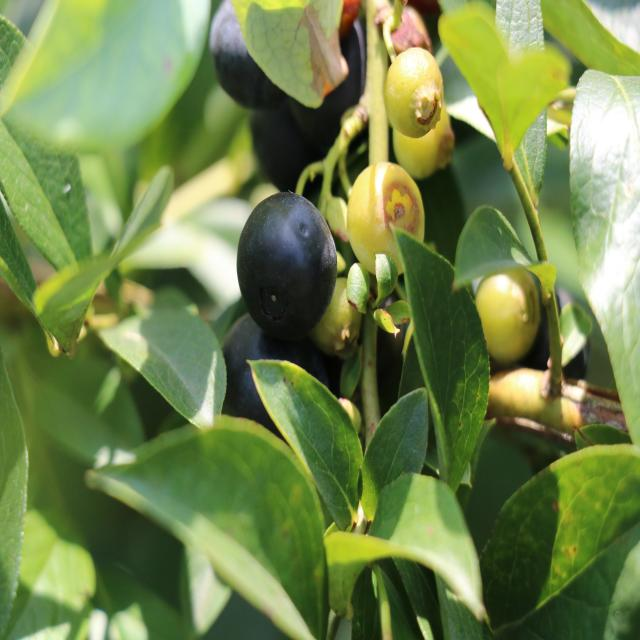blueberry: (232, 184, 338, 340), (215, 315, 332, 449), (204, 0, 300, 117), (288, 12, 372, 118)
blueberry-unripe: (344, 162, 424, 278), (474, 262, 536, 364), (384, 44, 446, 140), (390, 114, 456, 172)
